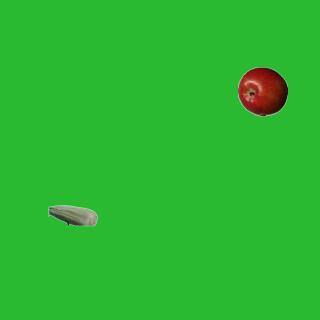Apple Braeburn: (237, 66, 287, 116)
Corn Husk: (47, 190, 97, 240)
